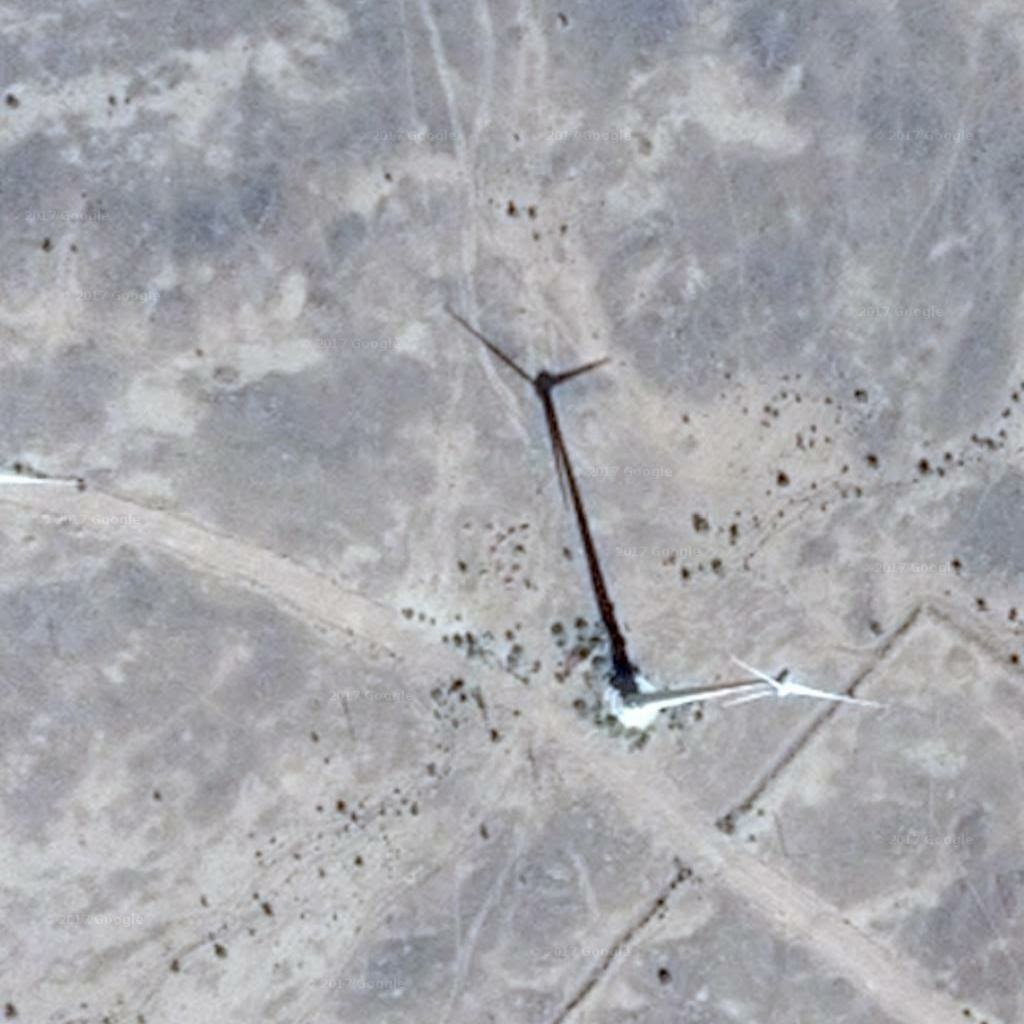Windmill: (432, 301, 655, 692)
